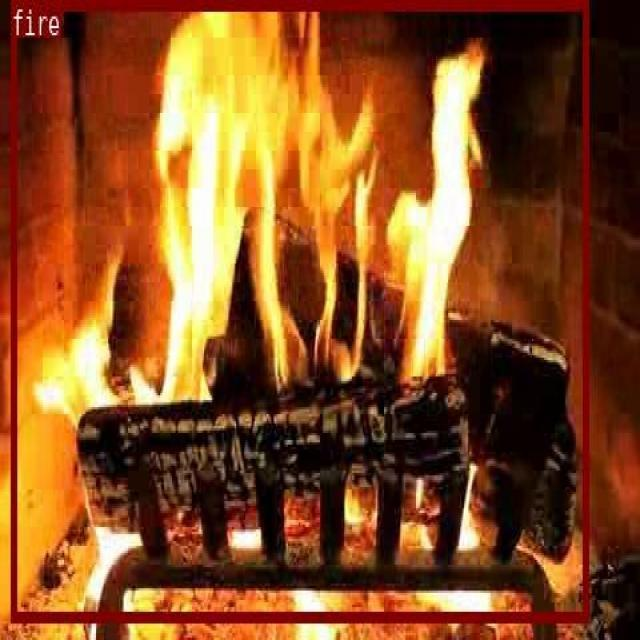fire: (10, 0, 587, 621)
